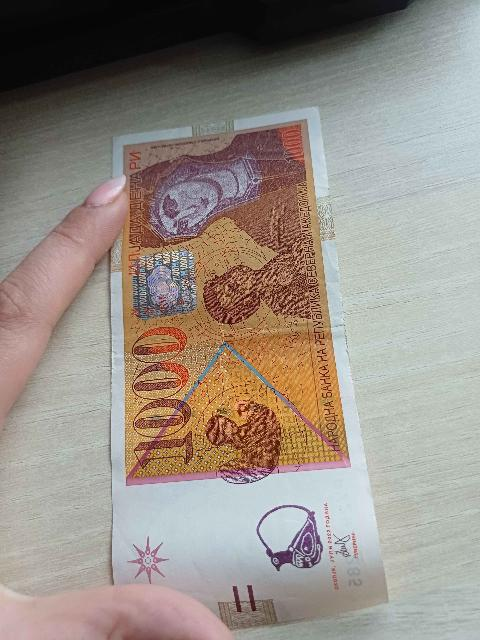1000_note: (91, 108, 400, 639)
